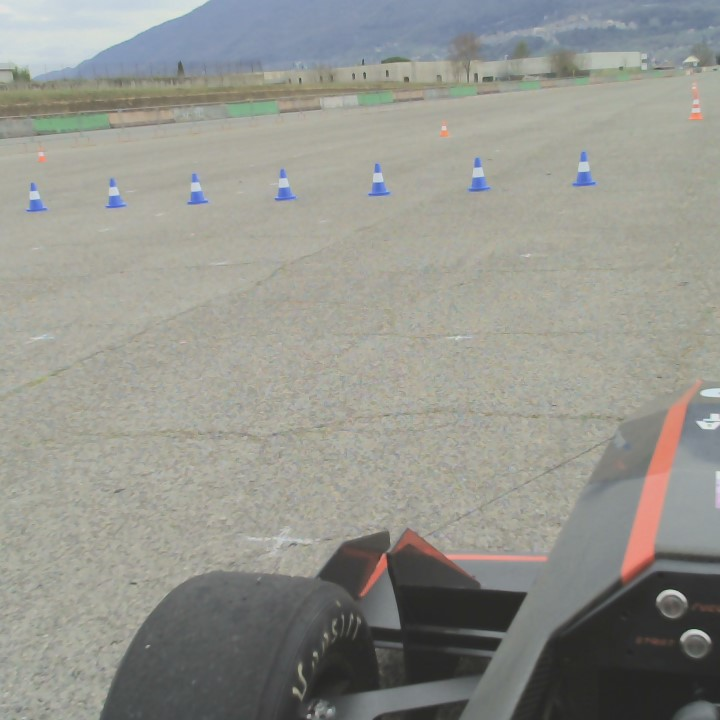cone: (573, 150, 597, 186), (467, 156, 490, 191), (275, 165, 296, 201), (106, 176, 125, 208), (189, 174, 209, 204), (370, 164, 389, 195), (28, 181, 46, 211)
